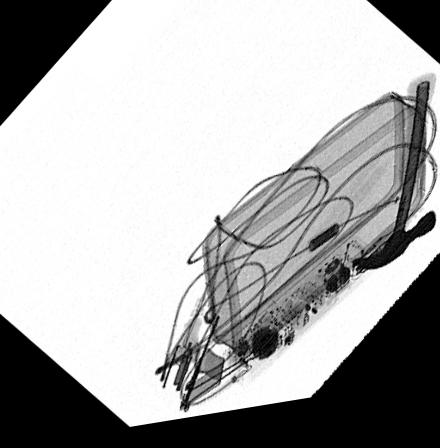Hammer: (351, 85, 438, 283)
